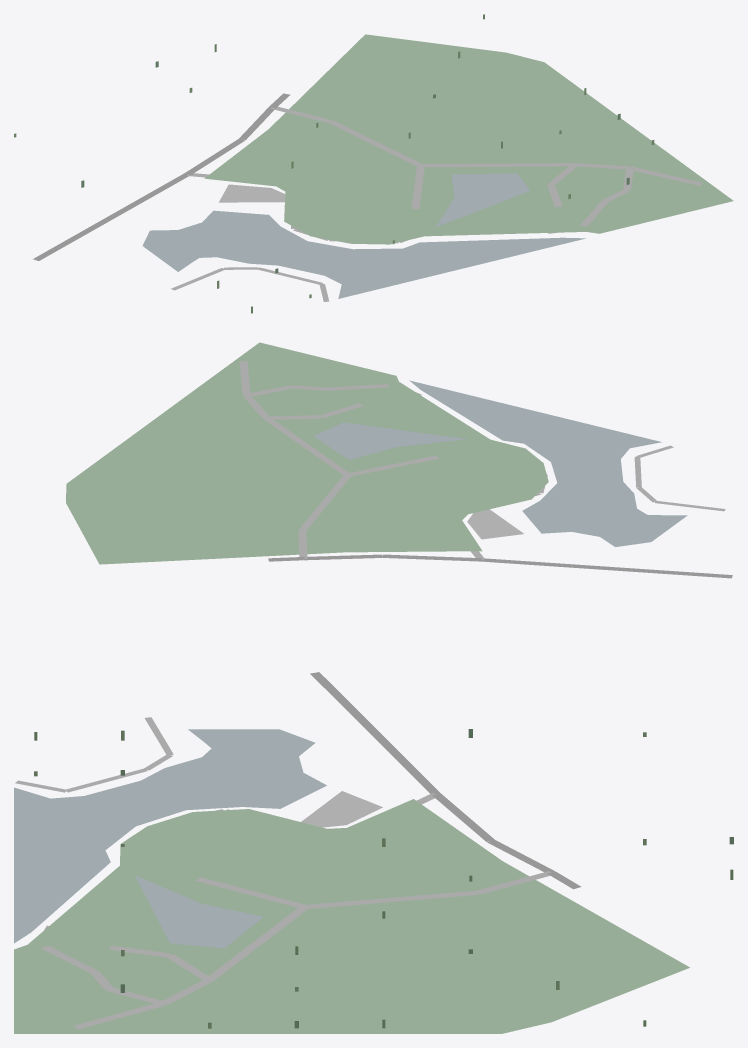
The picture shows the model from 3 angles, top to bottom: view 1: azimuth 30°, elevation 25°; view 2: azimuth 150°, elevation 25°; view 3: azimuth 270°, elevation 25°; orthographic projection. The views are drawn at different scales.
Size of the model in its own units: 597 by 13.72 by 496.
